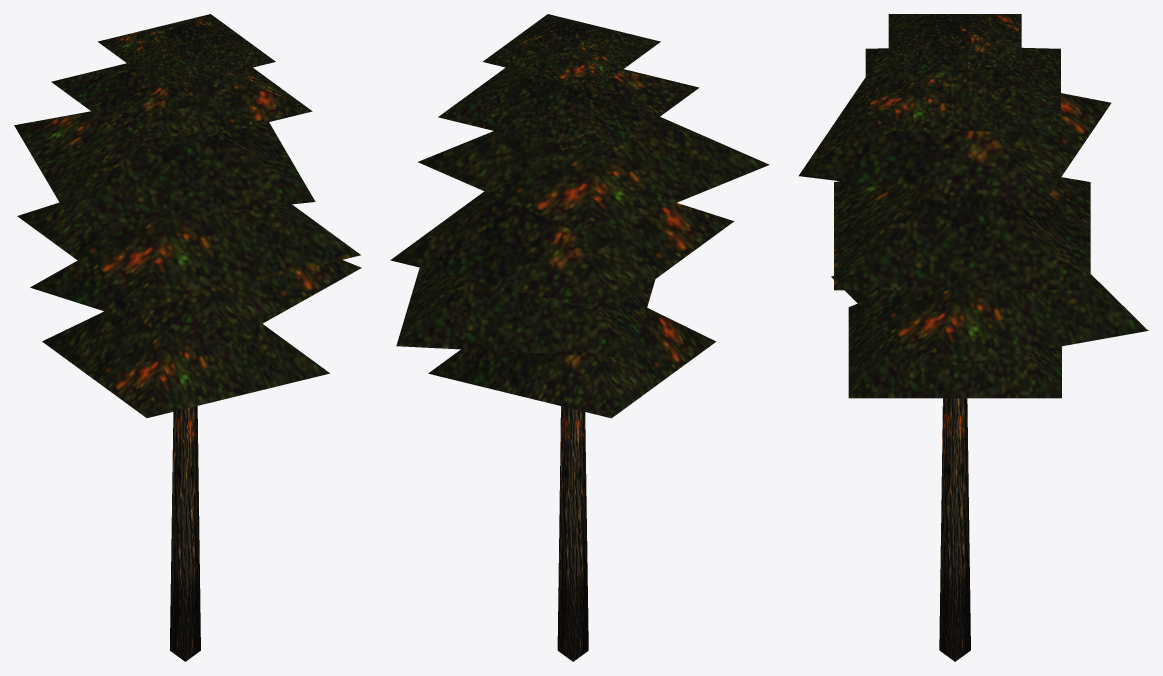
File: death.glb
3 renders of one model, left to right at view 1: azimuth 30°, elevation 25°; view 2: azimuth 150°, elevation 25°; view 3: azimuth 270°, elevation 25°, orthographic.
Visible parts, largest first — view 1: MeshRoot; view 2: MeshRoot; view 3: MeshRoot.
Part boxes in pixels (<box>): MeshRoot: <box>14,14,361,661</box>; MeshRoot: <box>390,14,769,661</box>; MeshRoot: <box>799,14,1148,661</box>.
Bounding box in the file's own units: 4.56 × 8.69 × 4.3.
Materials: 1 (1 with a texture image).
